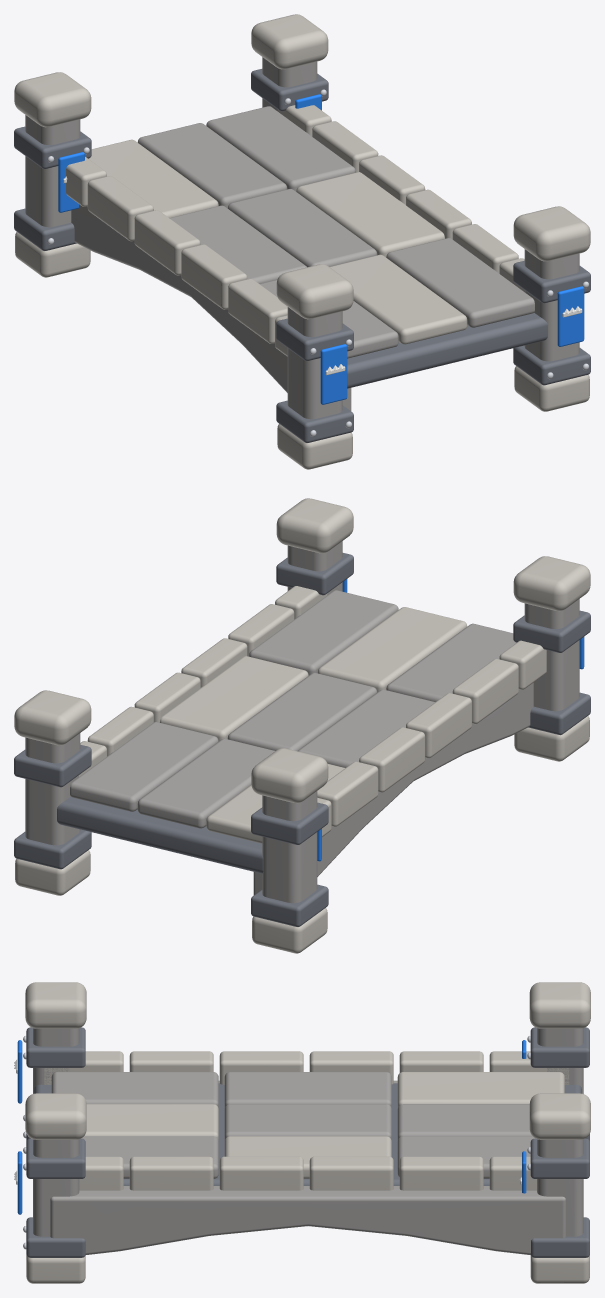
Rendered from stone-bridge.glb.
The picture shows the model from 3 angles, top to bottom: view 1: azimuth 30°, elevation 25°; view 2: azimuth 150°, elevation 25°; view 3: azimuth 270°, elevation 25°; orthographic projection. The views are drawn at different scales.
Visible parts, largest first — view 1: individual broad stone road slab.002, individual broad stone road slab, stone deck substrate, blue hanging team banner, blue hanging team banner.002, blue hanging team banner.001; view 2: individual broad stone road slab.002, individual broad stone road slab, stone deck substrate; view 3: individual broad stone road slab, individual broad stone road slab.002, stone deck substrate.
Part boxes in pixels (bbox=[...]): individual broad stone road slab.002: bbox=[14, 14, 590, 469]; individual broad stone road slab: bbox=[25, 57, 579, 419]; stone deck substrate: bbox=[14, 69, 590, 442]; blue hanging team banner: bbox=[320, 344, 347, 404]; blue hanging team banner.002: bbox=[557, 286, 584, 346]; blue hanging team banner.001: bbox=[58, 152, 84, 212]; individual broad stone road slab.002: bbox=[14, 498, 590, 953]; individual broad stone road slab: bbox=[25, 541, 579, 903]; stone deck substrate: bbox=[14, 553, 590, 926]; individual broad stone road slab: bbox=[33, 1028, 583, 1255]; individual broad stone road slab.002: bbox=[25, 982, 590, 1283]; stone deck substrate: bbox=[26, 1027, 589, 1257].
Bounding box in the file's own units: 3.26 × 1.92 × 5.84.
